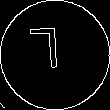L_S: (38, 29, 72, 81)
